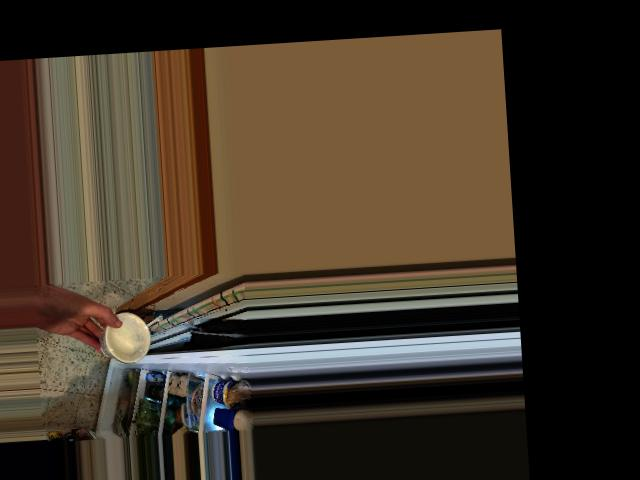cotage: (96, 316, 153, 363)
